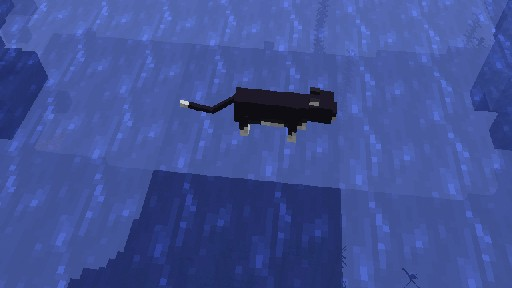cat: (179, 86, 337, 142)
